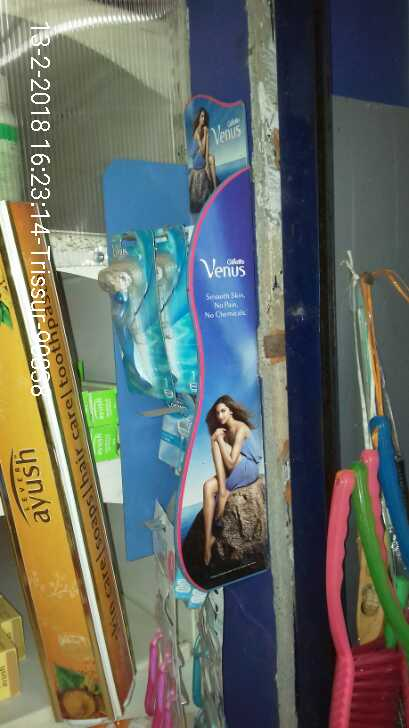venus: (101, 235, 151, 400)
